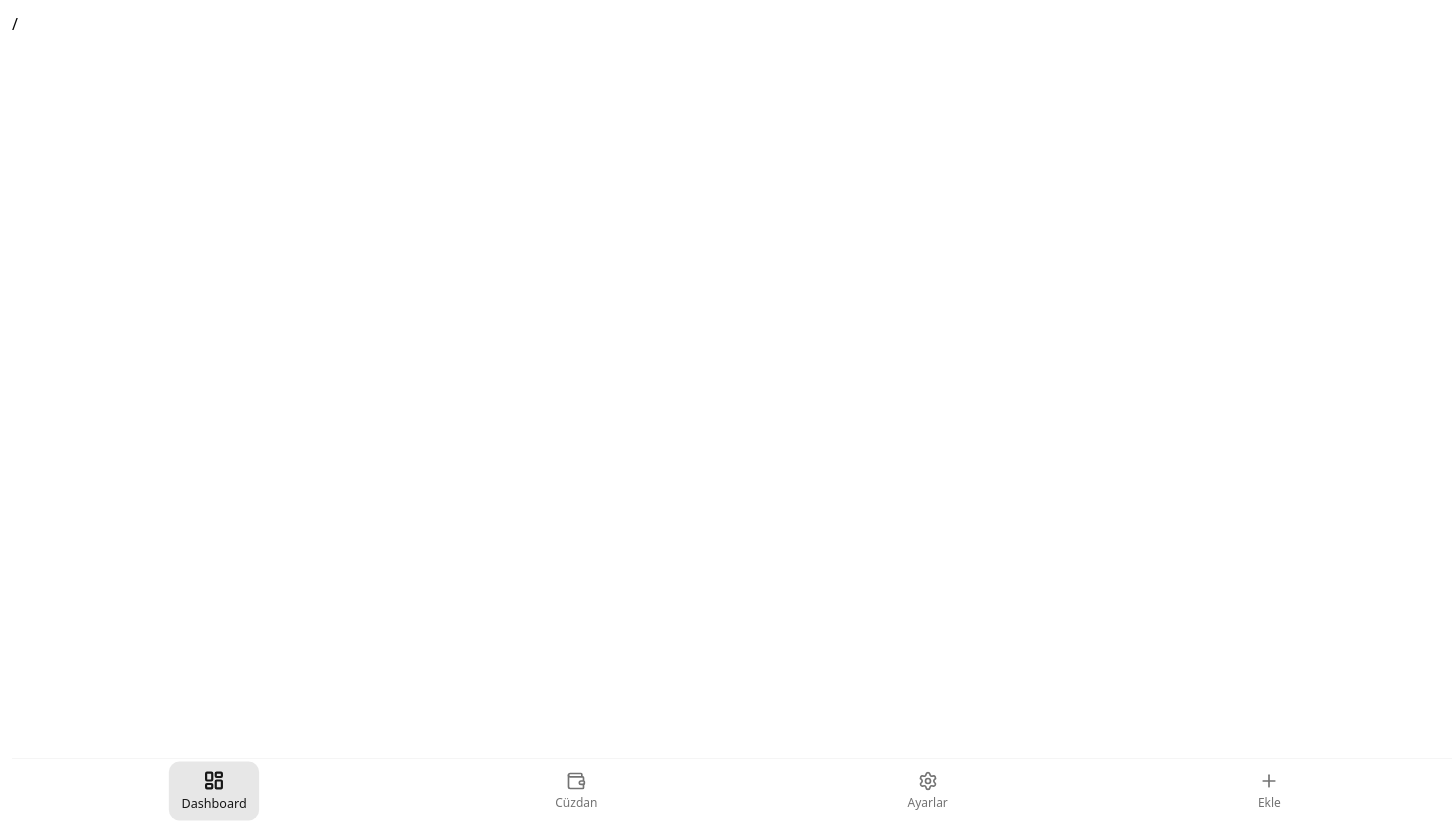
BottomNav › Navigation (AC2, AC5) › should navigate to settings when clicking Settings
Click the link labelled "Ayarlar". click: (928, 791)
box: [908, 771, 948, 811]
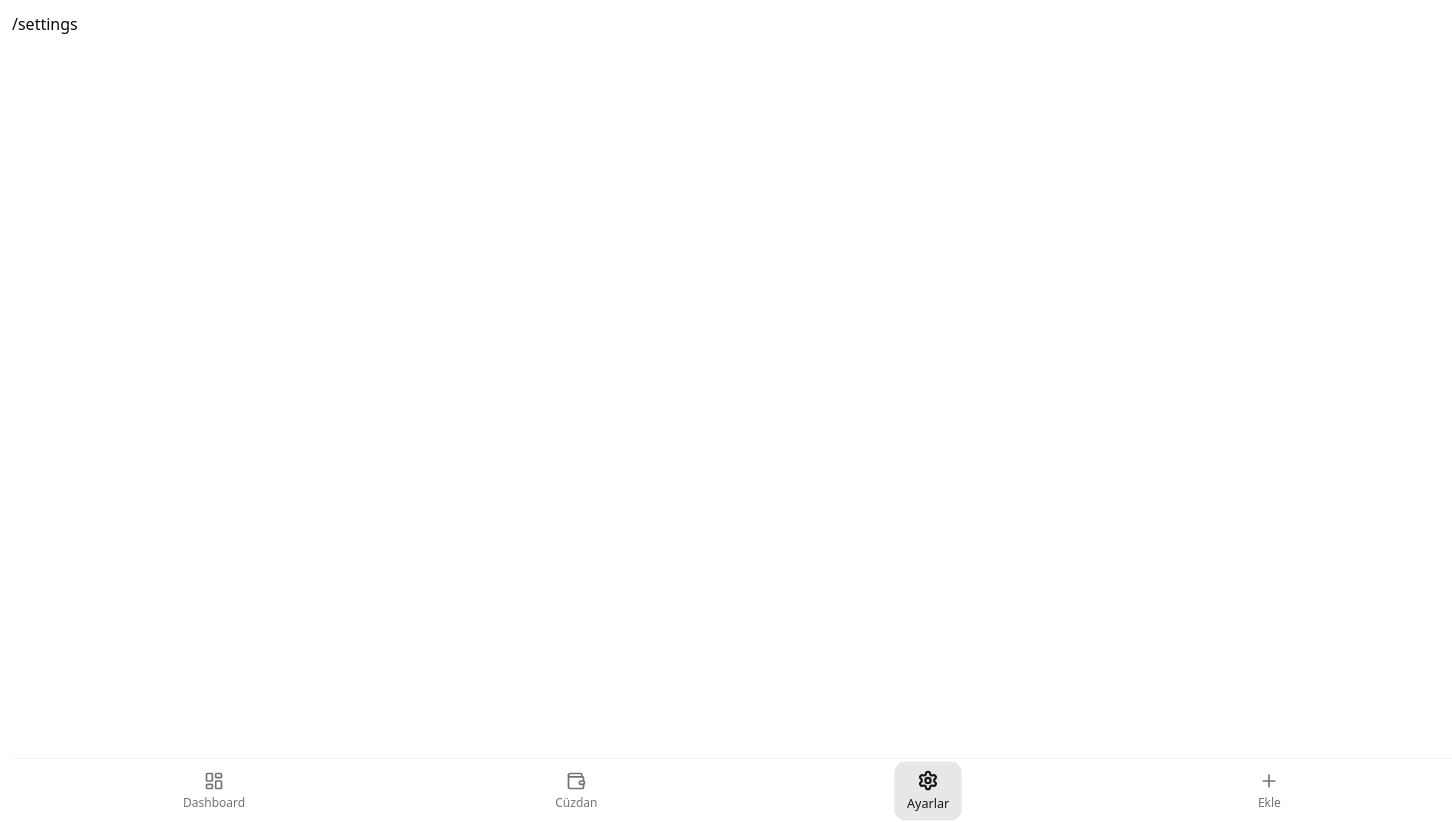
Now the text with test id "current-location" reads "/settings", box [12, 13, 78, 35]
